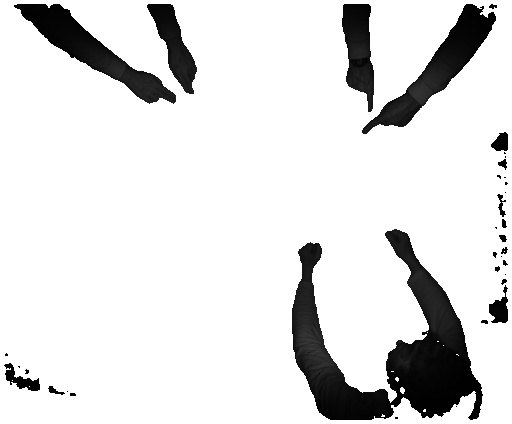fist: (384, 224, 415, 258), (296, 240, 327, 273)
hand: (362, 100, 416, 135), (344, 64, 378, 116), (168, 43, 199, 97), (128, 71, 178, 103)
